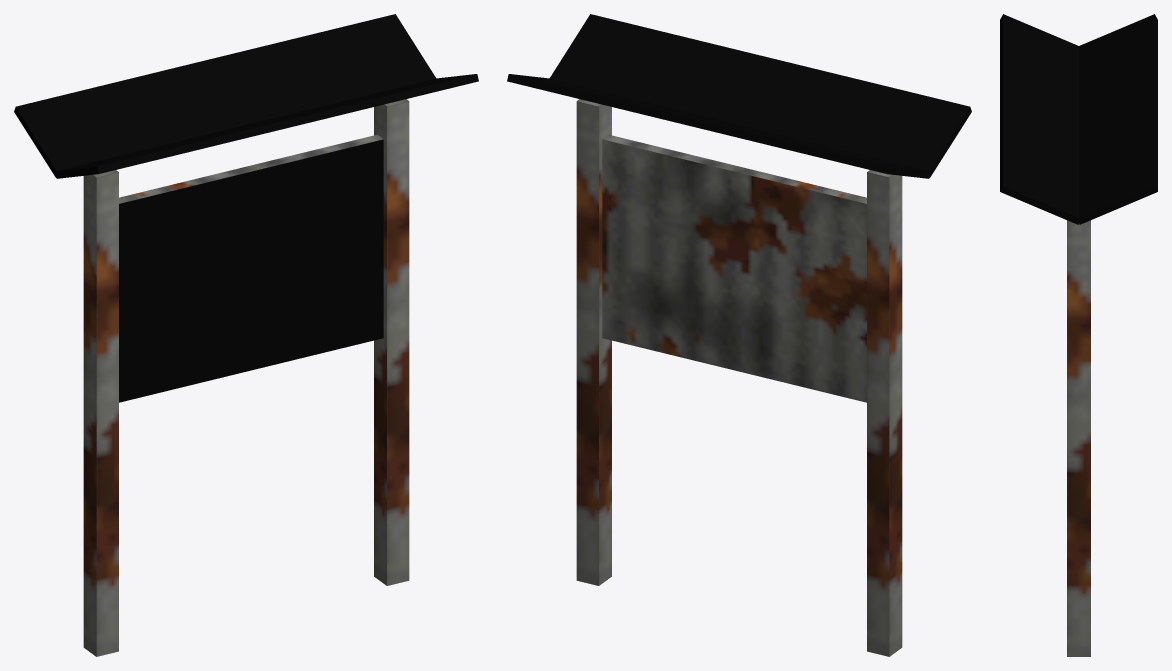
Rendered from SM_sign_fire_danger.fbx.
3 views of the same model, side by side, from view 1: azimuth 30°, elevation 25°; view 2: azimuth 150°, elevation 25°; view 3: azimuth 270°, elevation 25° (orthographic). The views are drawn at different scales.
Visible parts, largest first — view 1: sign_fire_danger; view 2: sign_fire_danger; view 3: sign_fire_danger.
Boxes of the visible parts, x1,y1,x2,y2 form: sign_fire_danger: (14, 14, 478, 656); sign_fire_danger: (507, 14, 971, 656); sign_fire_danger: (1000, 14, 1157, 656).
Size of the model in its own units: 1.7 by 2.24 by 0.6589.
